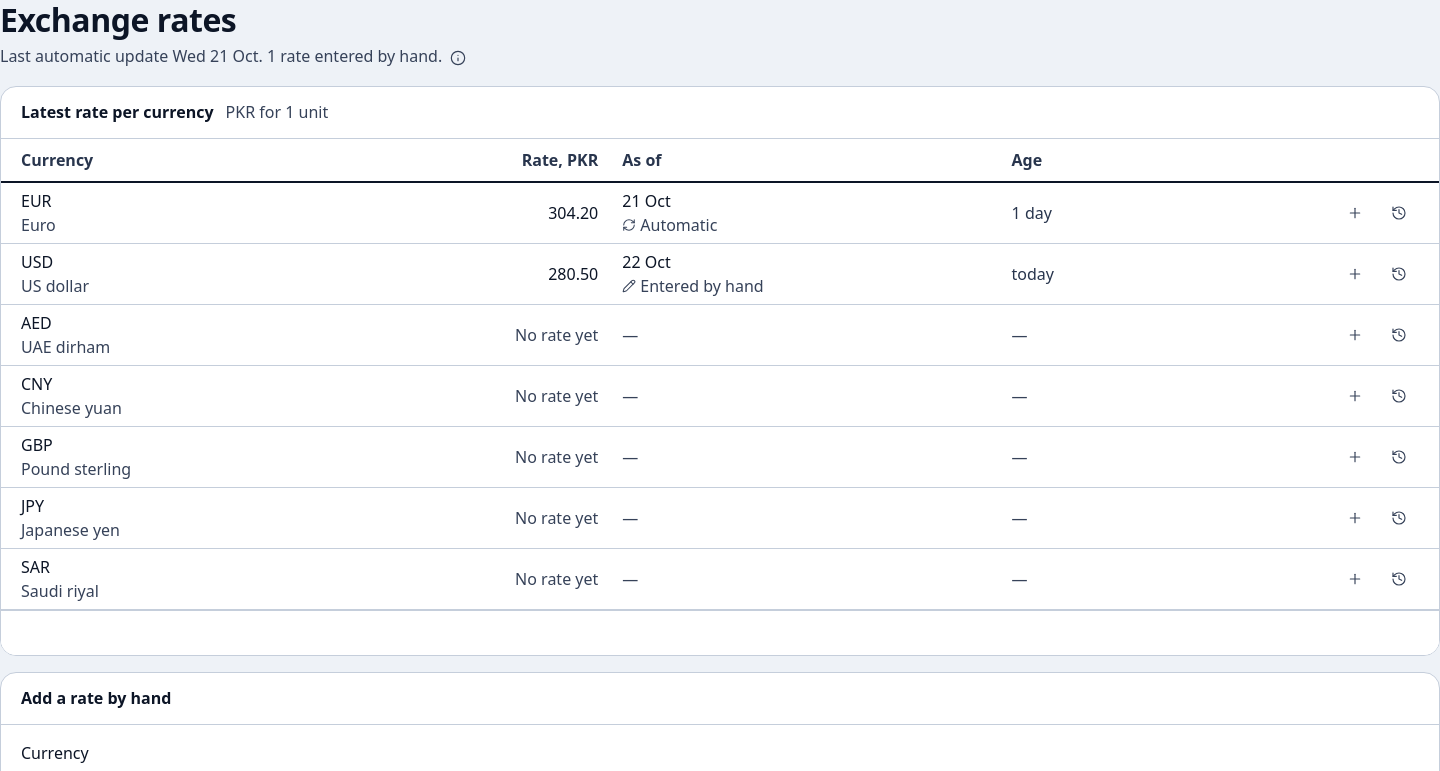
Test: Exchange rates (audit 2026-10-22) › a row's History opens that currency's recent rates
Click the button named "History of USD". click: (1399, 274)
box: [1379,254,1419,294]
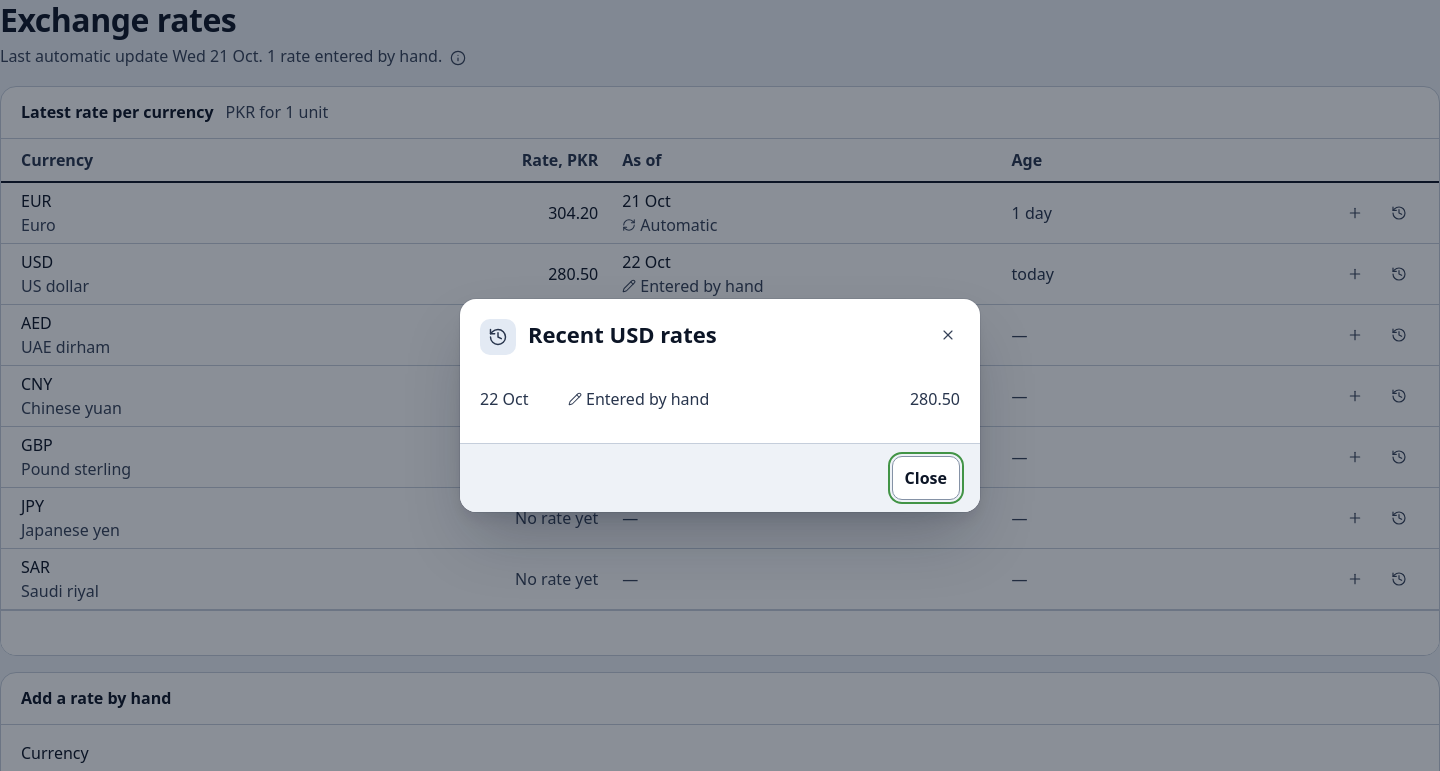
Now the text "280.50" is shown, box [910,386,960,410]
